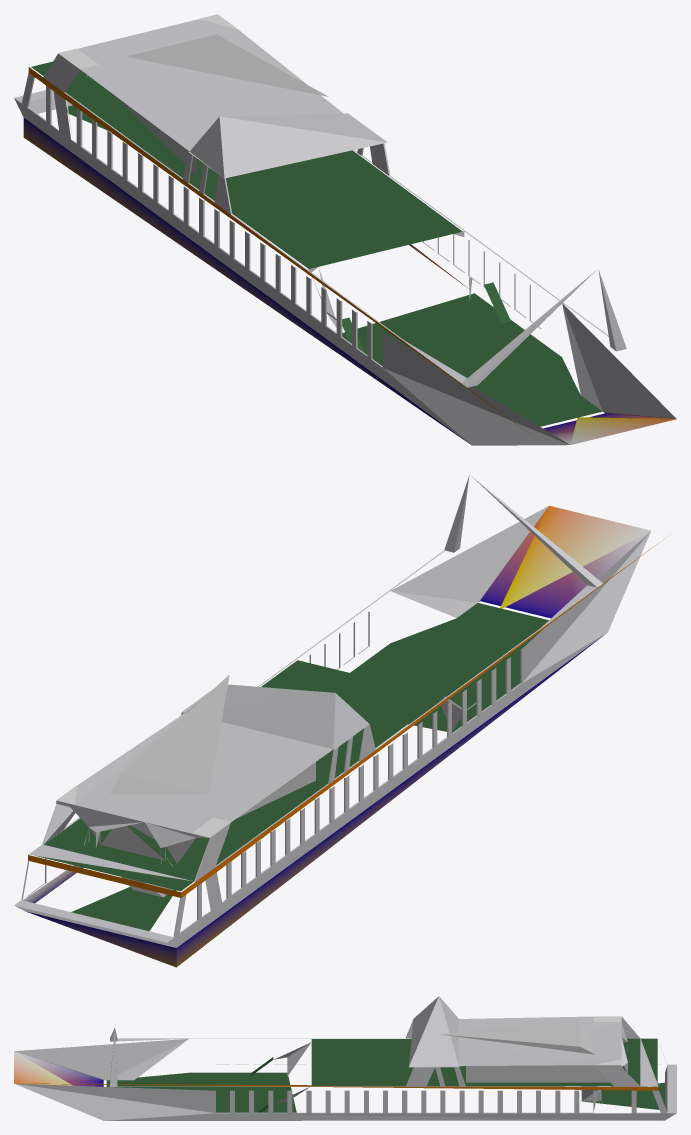
File: lct-ferry.zfix-v5.lod2.glb
3 renders of one model, top to bottom at view 1: azimuth 30°, elevation 25°; view 2: azimuth 150°, elevation 25°; view 3: azimuth 270°, elevation 25°, orthographic. The views are drawn at different scales.
Visible parts, largest first — view 1: Material2; view 2: Material2; view 3: Material2.
Part boxes in pixels (bbox=[...]): Material2: bbox=[14, 14, 676, 445]; Material2: bbox=[14, 476, 667, 967]; Material2: bbox=[14, 996, 676, 1120].
Bounding box in the file's own units: 6.95 × 6.58 × 40.
